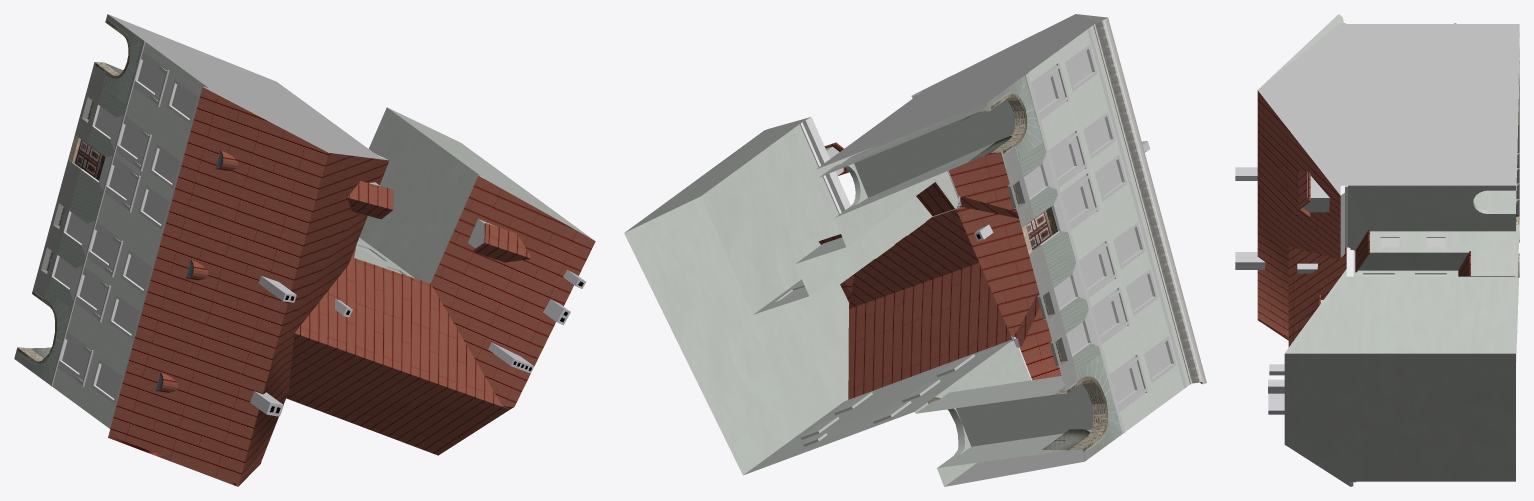
Rendered from Lai_28.obj.
3 views of the same model, side by side, from view 1: azimuth 30°, elevation 25°; view 2: azimuth 150°, elevation 25°; view 3: azimuth 270°, elevation 25° (orthographic). The views are drawn at different scales.
Parts seen in each view (by area): view 1: Lai_28; view 2: Lai_28; view 3: Lai_28.
Part boxes in pixels (x1=…): Lai_28: x1=14, y1=14, x2=595, y2=486; Lai_28: x1=624, y1=14, x2=1206, y2=486; Lai_28: x1=1235, y1=14, x2=1519, y2=486.
Size of the model in its own units: 28.55 by 25.89 by 17.97.
